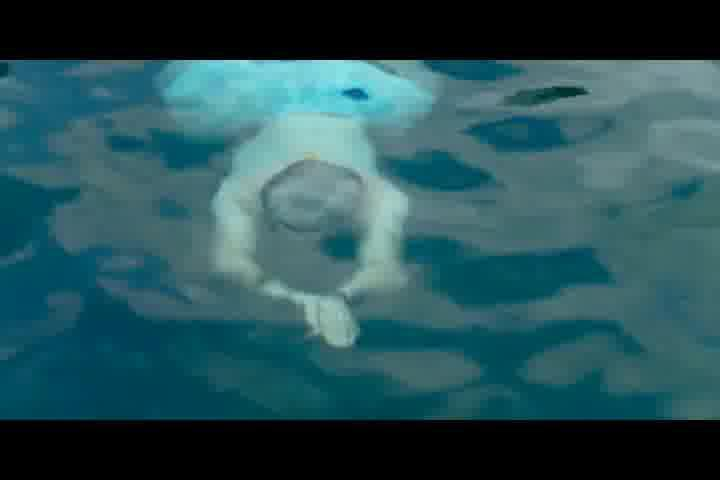swimmer: (157, 54, 434, 349)
